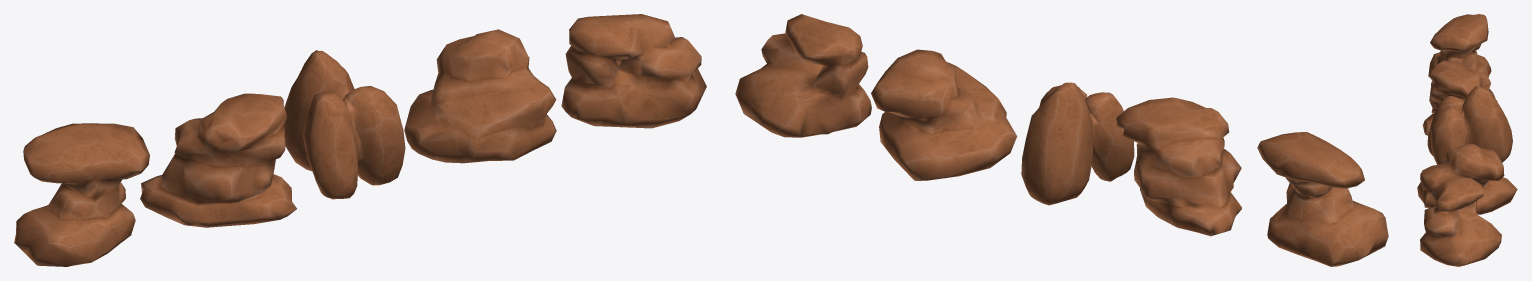
Rendered from stylized_rocks_formation_asset_pack.glb.
3 renders of one model, left to right at view 1: azimuth 30°, elevation 25°; view 2: azimuth 150°, elevation 25°; view 3: azimuth 270°, elevation 25°, orthographic. The views are drawn at different scales.
Parts seen in each view (by area): view 1: MRock2, MRock1, MRock4, MRock3, MRock5; view 2: MRock2, MRock1, MRock3, MRock4, MRock5; view 3: MRock3, MRock5, MRock2, MRock4, MRock1.
Part boxes in pixels (x1,y1,x2,y2): MRock2: (404, 29, 556, 163); MRock1: (140, 93, 296, 227); MRock4: (14, 123, 149, 266); MRock3: (561, 14, 706, 128); MRock5: (284, 50, 405, 199); MRock2: (871, 49, 1017, 180); MRock1: (1116, 97, 1241, 236); MRock3: (735, 14, 871, 137); MRock4: (1257, 132, 1388, 266); MRock5: (1021, 82, 1134, 205); MRock3: (1420, 177, 1501, 266); MRock5: (1427, 86, 1512, 164); MRock2: (1417, 143, 1517, 214); MRock4: (1428, 14, 1491, 80); MRock1: (1422, 60, 1497, 135).
Bounding box in the file's own units: 2674 × 473 × 554.
Materials: 5 (5 with a texture image).
